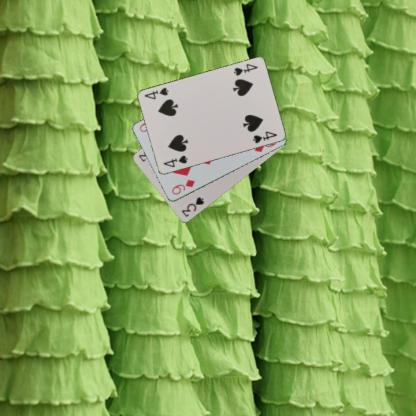3s: (179, 195, 205, 218)
4s: (231, 61, 259, 78), (161, 153, 189, 169)
9d: (169, 177, 196, 196)
